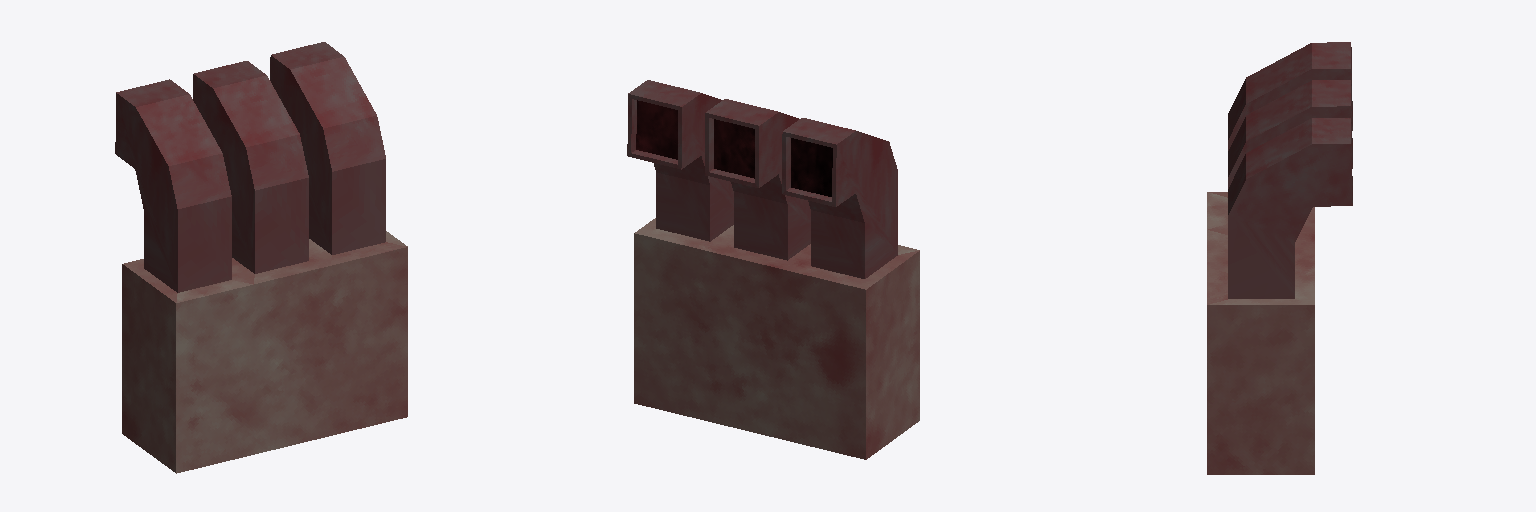
3 renders of one model, left to right at view 1: azimuth 30°, elevation 25°; view 2: azimuth 150°, elevation 25°; view 3: azimuth 270°, elevation 25°, orthographic.
Parts seen in each view (by area): view 1: ダクト; view 2: ダクト; view 3: ダクト.
Boxes of the visible parts, x1=… form: ダクト: x1=115, y1=42, x2=407, y2=473; ダクト: x1=627, y1=80, x2=919, y2=459; ダクト: x1=1207, y1=42, x2=1352, y2=474.
Bounding box in the file's own units: 1 × 1.34 × 0.5421.
1 materials, 1 textured.